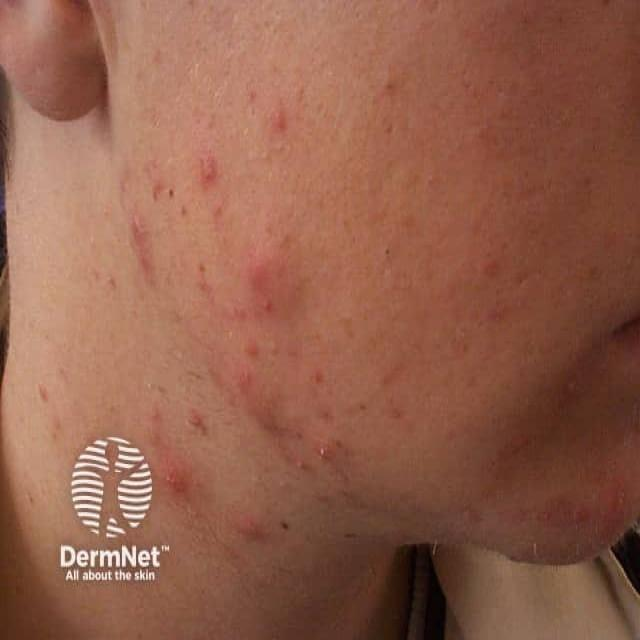Acne: (121, 128, 355, 524)
